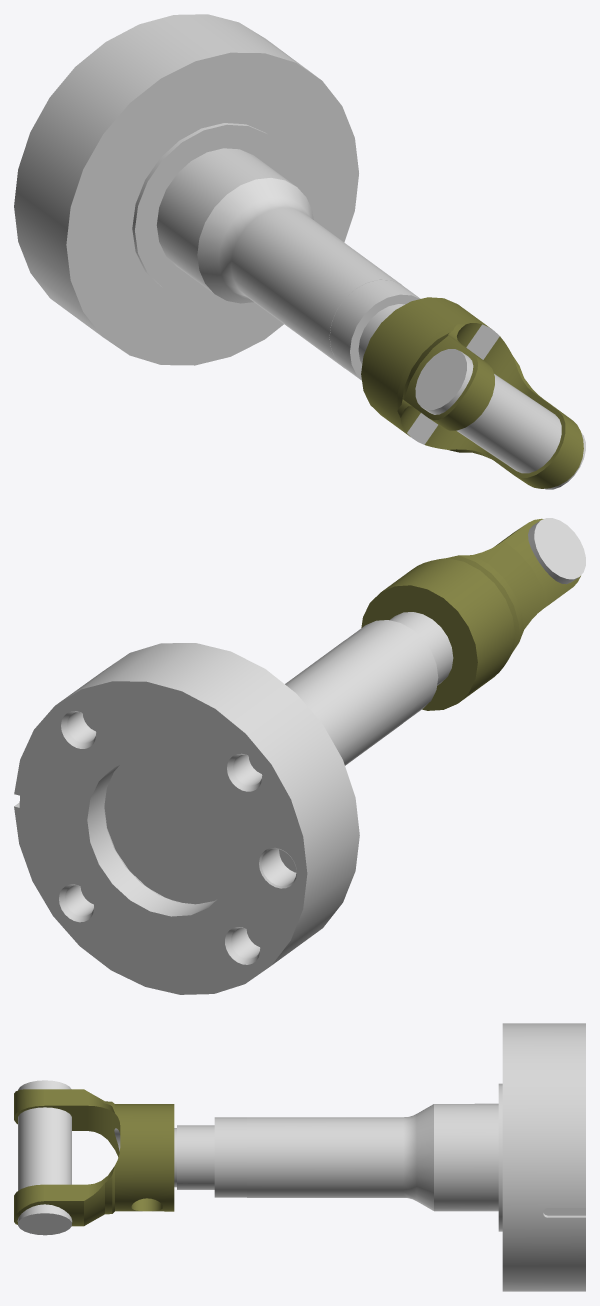
Rendered from RevoluteLinkPlate.glb.
3 views of the same model, one above another, from view 1: azimuth 30°, elevation 25°; view 2: azimuth 150°, elevation 25°; view 3: azimuth 270°, elevation 25° (orthographic). The views are drawn at different scales.
Parts seen in each view (by area): view 1: IRB360_6-1600-STD-4D_rev03_RevoluteLinkPlate_CAD; view 2: IRB360_6-1600-STD-4D_rev03_RevoluteLinkPlate_CAD; view 3: IRB360_6-1600-STD-4D_rev03_RevoluteLinkPlate_CAD.
Boxes of the visible parts, left/top/right/bottom form: IRB360_6-1600-STD-4D_rev03_RevoluteLinkPlate_CAD: left=14, top=14, right=585, bottom=489; IRB360_6-1600-STD-4D_rev03_RevoluteLinkPlate_CAD: left=14, top=518, right=585, bottom=994; IRB360_6-1600-STD-4D_rev03_RevoluteLinkPlate_CAD: left=14, top=1023, right=585, bottom=1291.
Size of the model in its own units: 0.05 by 0.0498 by 0.1063.
